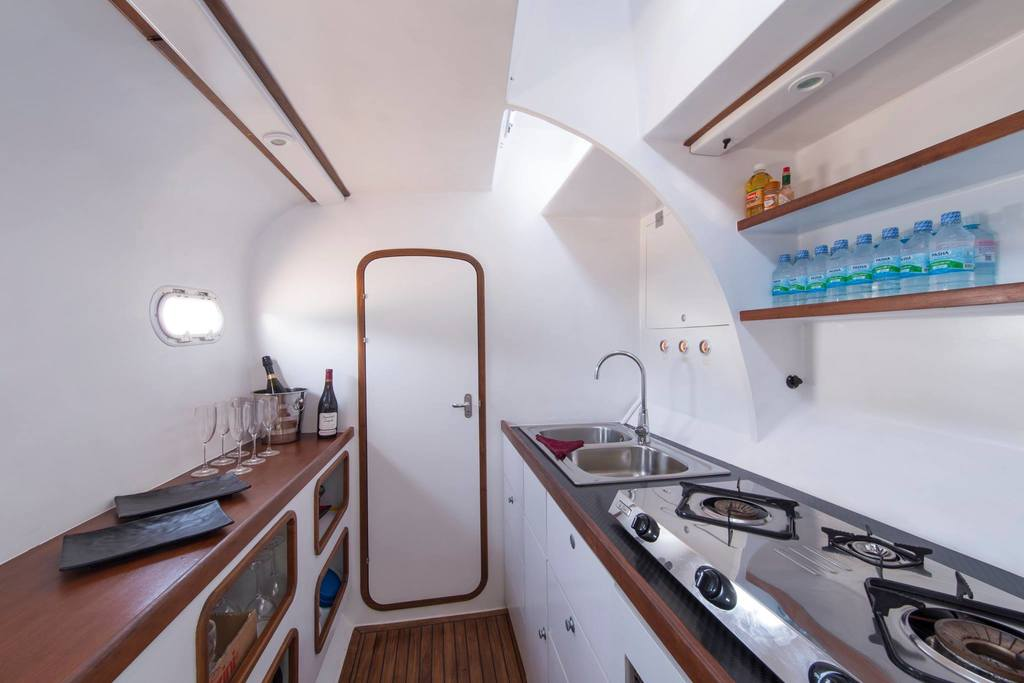tap: (588, 348, 650, 446)
